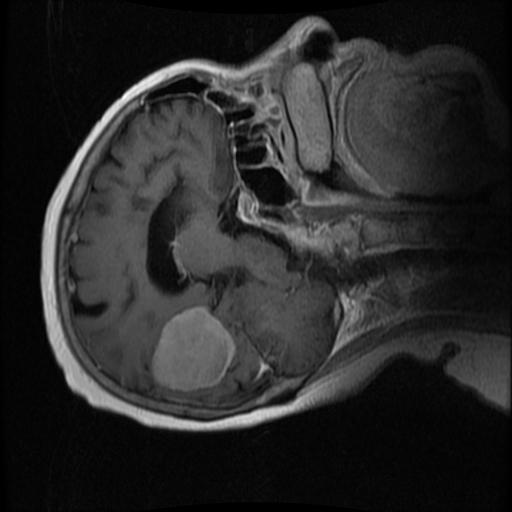meningioma: (150, 309, 235, 391)
